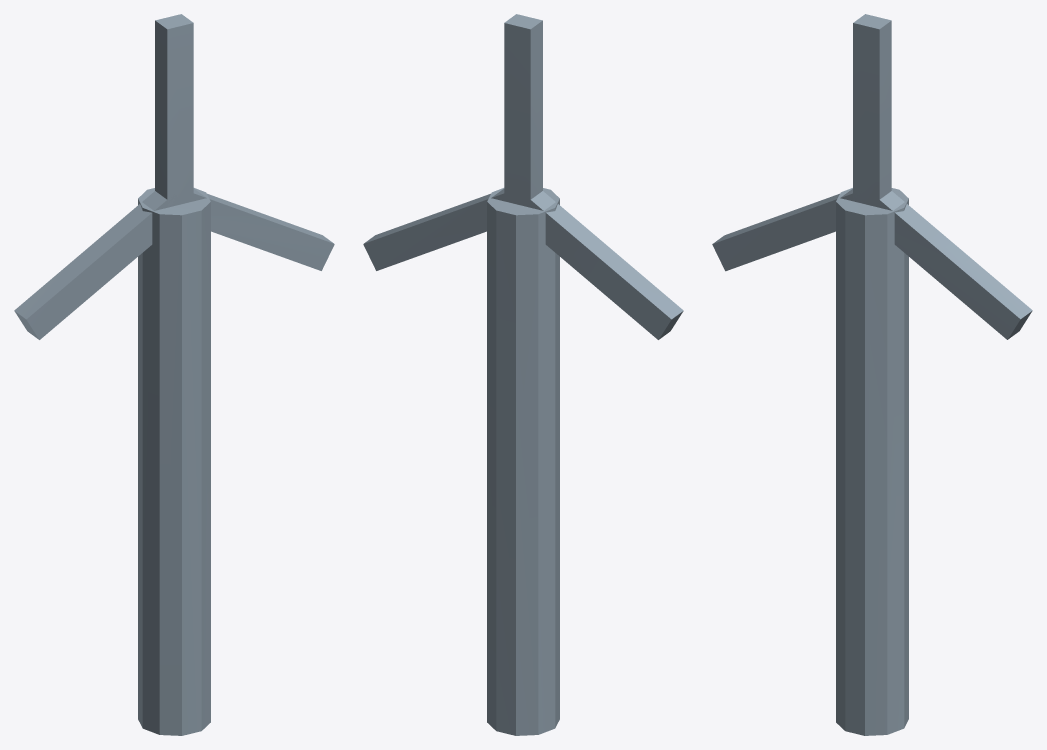
Rendered from wind_turbine-08.glb.
3 renders of one model, left to right at view 1: azimuth 30°, elevation 25°; view 2: azimuth 150°, elevation 25°; view 3: azimuth 330°, elevation 25°, orthographic.
Parts seen in each view (by area): view 1: world; view 2: world; view 3: world.
Boxes of the visible parts, box(x1,y1,x2,y2) form: world: box(14, 14, 334, 735); world: box(363, 14, 683, 735); world: box(712, 14, 1032, 735).
Bounding box in the file's own units: 1.17 × 2.53 × 0.2283.
